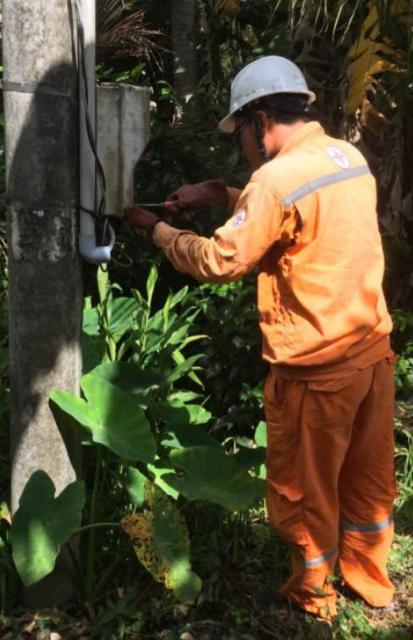gloves: (145, 170, 245, 231), (92, 192, 178, 257)
helmet: (194, 51, 330, 138)
